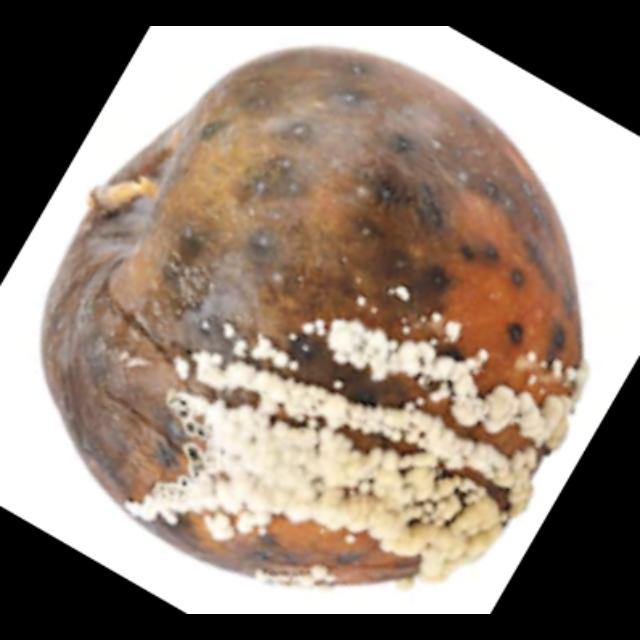Apel Tidak Segar: (41, 64, 612, 596)
